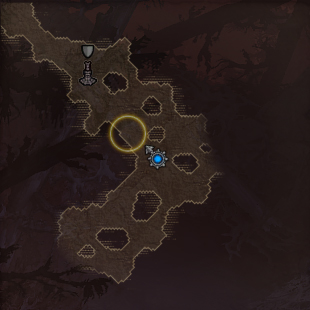Guardian2: (108, 113, 147, 153)
